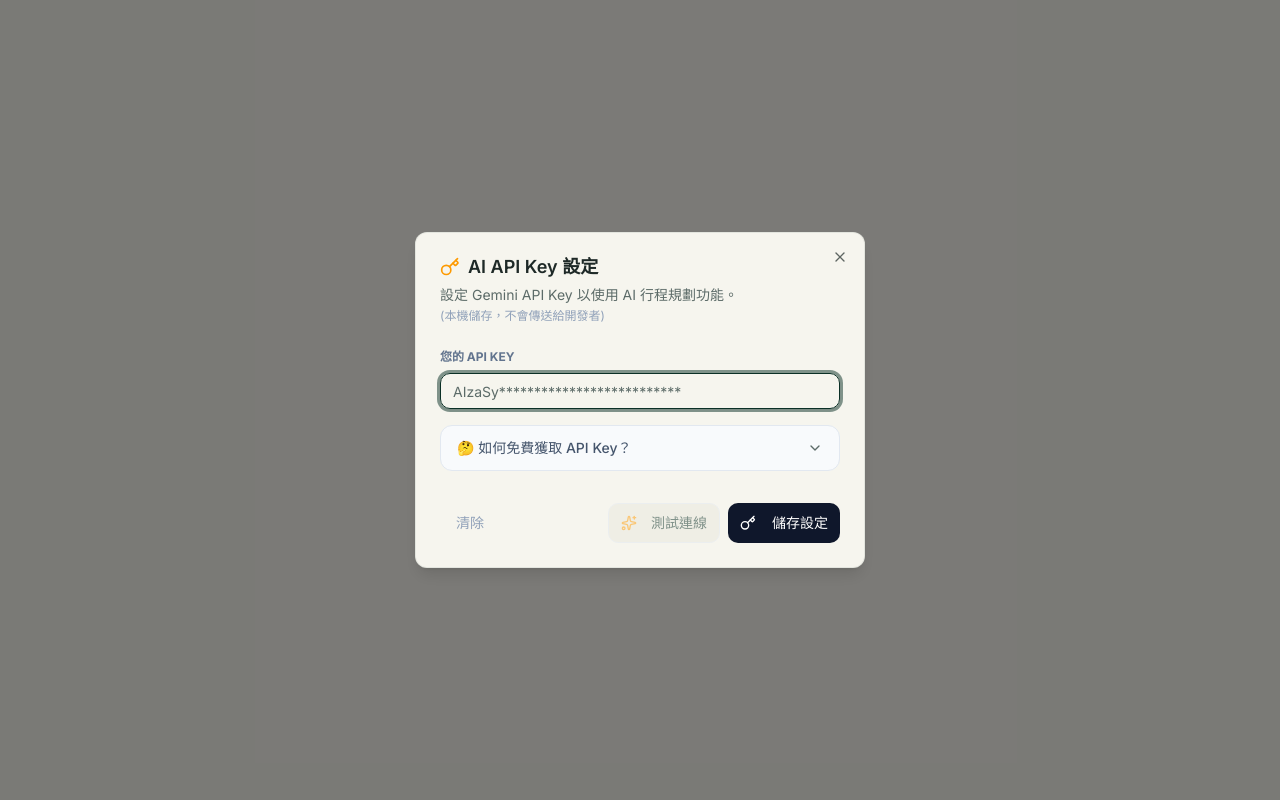
Test: AIKeyDialog & Dialog Overflow Defense Test Suite › TDD-3: AIKeyDialog Accordion items have min-w-0 flex-1 break-words on text containers
# Expand the accordion item
Click the button "🤔 如何免費獲取 API Key？" at (555, 448), box x1=457 y1=426 x2=823 y2=470
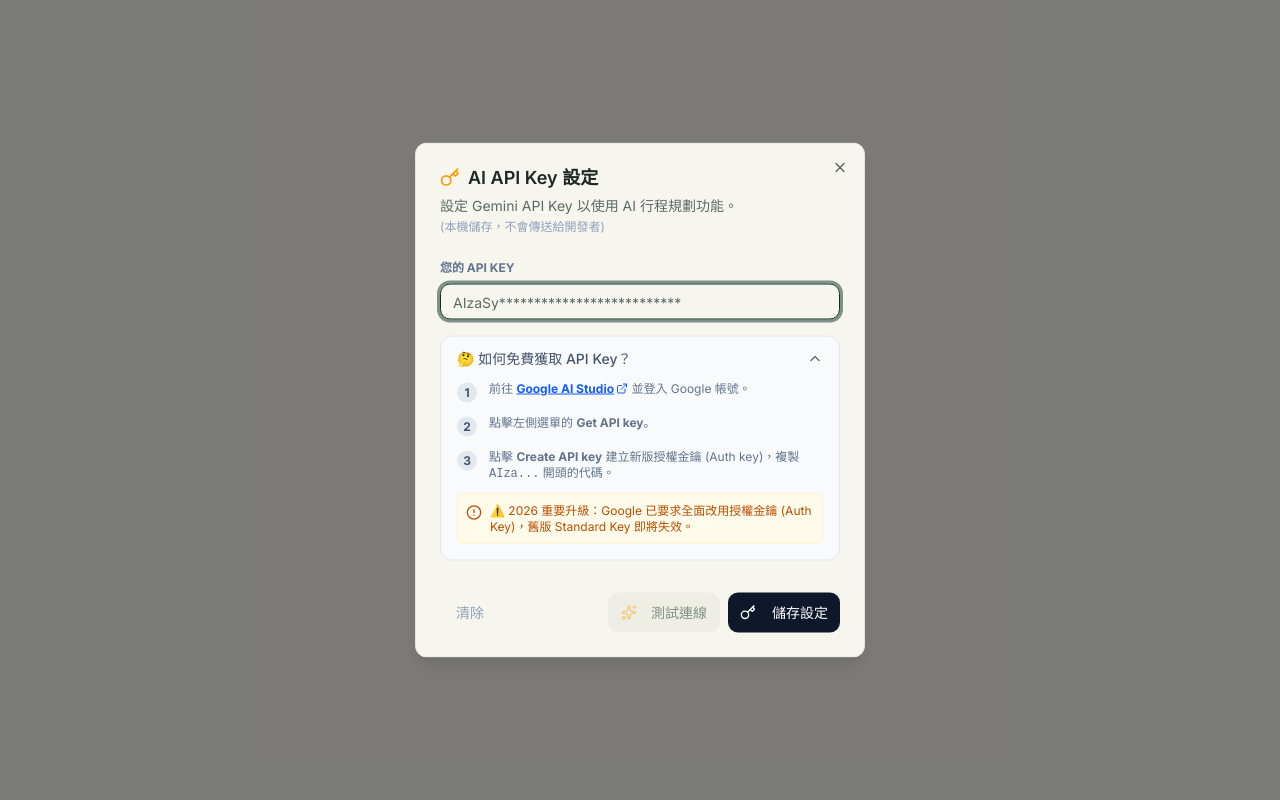
expect the element showing "1 前往 Google AI Studio 並登入 Google 帳號。" is shown: met, box x1=457 y1=380 x2=751 y2=402
expect the element with class "min-w-0" that starts with "Google AI Studio" is shown: met, box x1=489 y1=380 x2=751 y2=396
expect the element with class "min-w-0" showing "點擊左側選單的 Get API key。" is shown: met, box x1=489 y1=414 x2=656 y2=430
